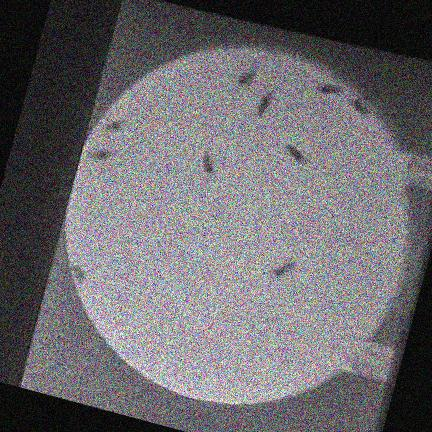fly: (266, 260, 294, 278), (284, 143, 306, 162), (256, 91, 272, 115), (234, 69, 255, 87), (201, 151, 214, 178), (349, 97, 368, 114), (70, 263, 84, 282), (316, 83, 342, 93), (88, 149, 111, 160), (102, 120, 122, 131)
